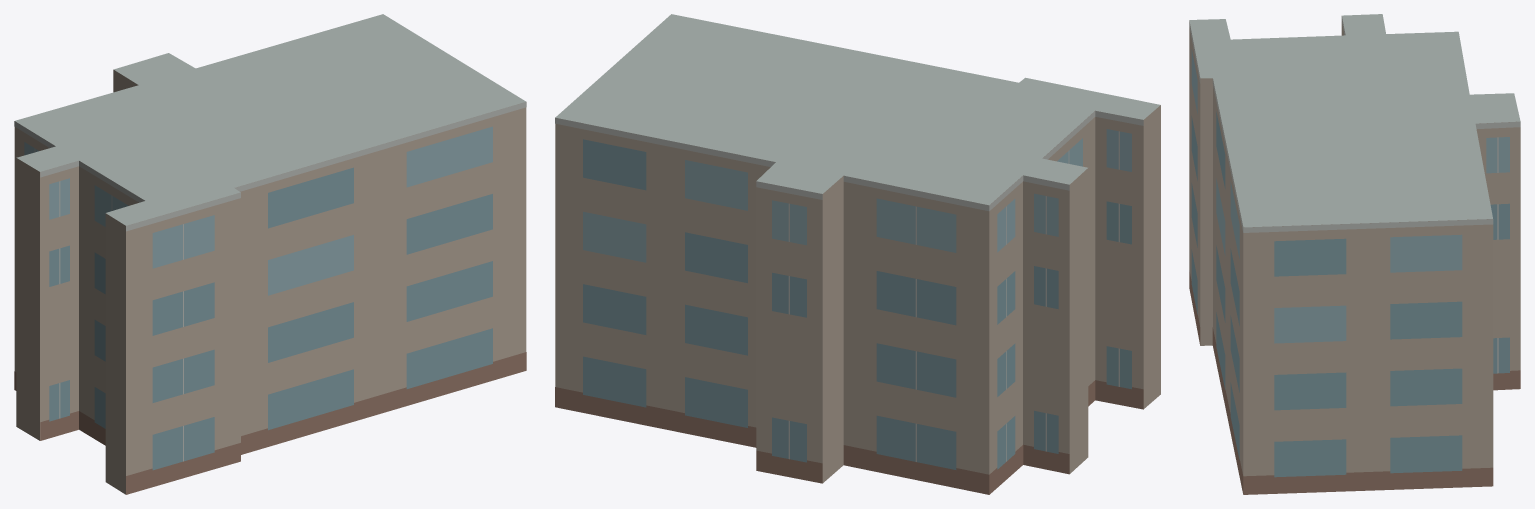
The model's file is survey-upis-32758351.glb.
The picture shows the model from 3 angles, left to right: view 1: azimuth 30°, elevation 25°; view 2: azimuth 150°, elevation 25°; view 3: azimuth 270°, elevation 25°; orthographic projection. The views are drawn at different scales.
Parts seen in each view (by area): view 1: survey-upis-32758351.tmp; view 2: survey-upis-32758351.tmp; view 3: survey-upis-32758351.tmp.
Boxes of the visible parts, <box> form: survey-upis-32758351.tmp: <box>14,14,526,494</box>; survey-upis-32758351.tmp: <box>555,14,1160,494</box>; survey-upis-32758351.tmp: <box>1189,14,1520,494</box>.
Bounding box in the file's own units: 20.03 × 11.7 × 13.15.
